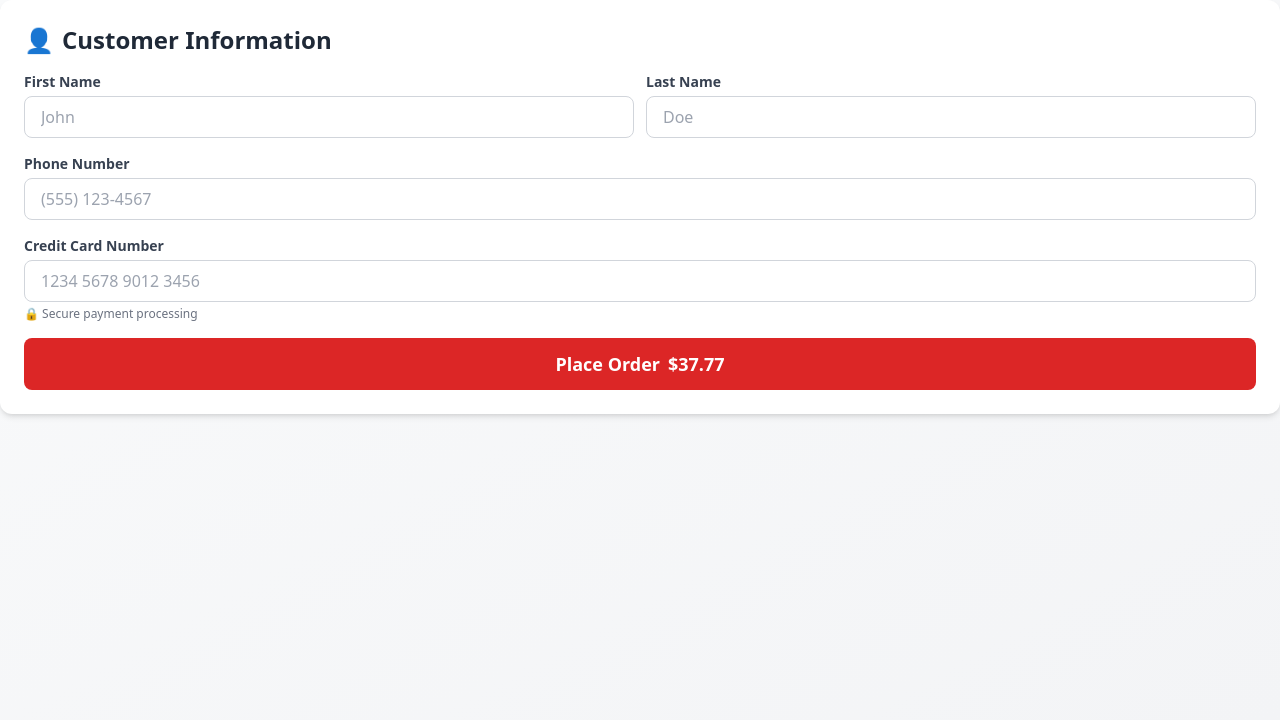
OrderForm Component › Form Validation - Failure Cases › should show error for empty first name
The width and height of the screenshot is (1280, 720).
Blur on first name field when empty to trigger validation
Click the field labelled "First Name" at (329, 117), box top-left (24, 96), bottom-right (634, 138)
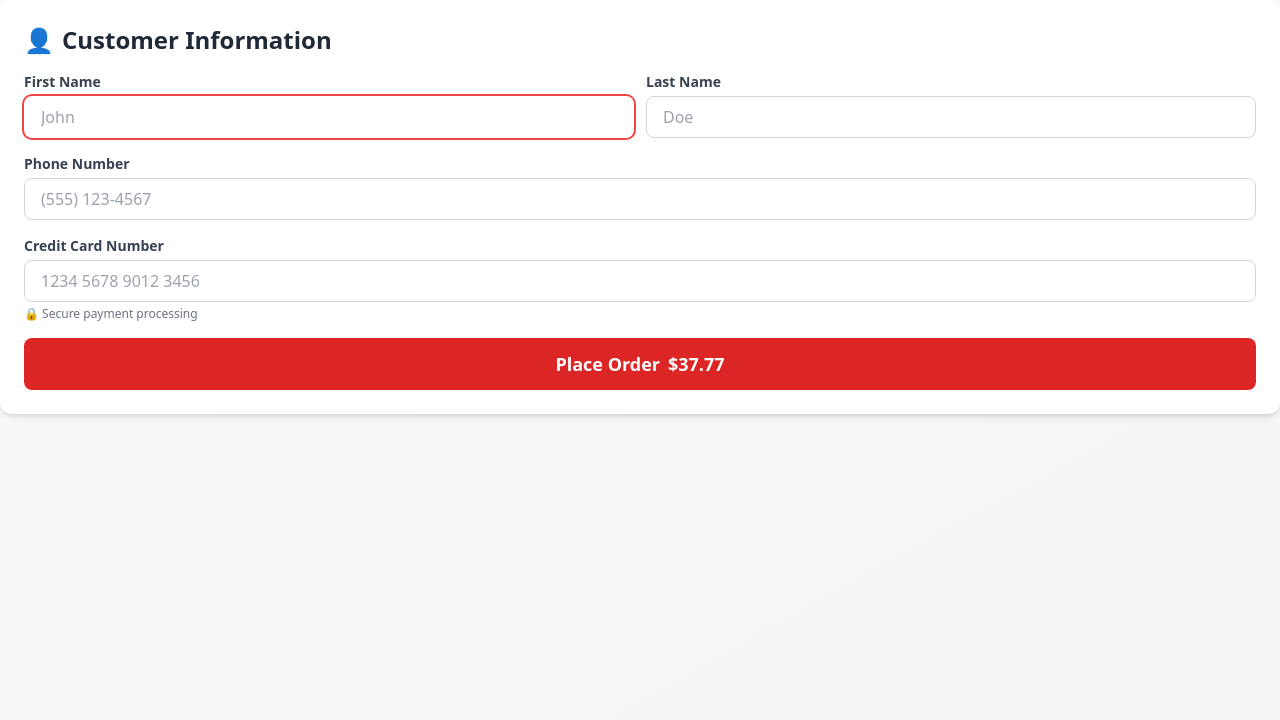
Press Tab
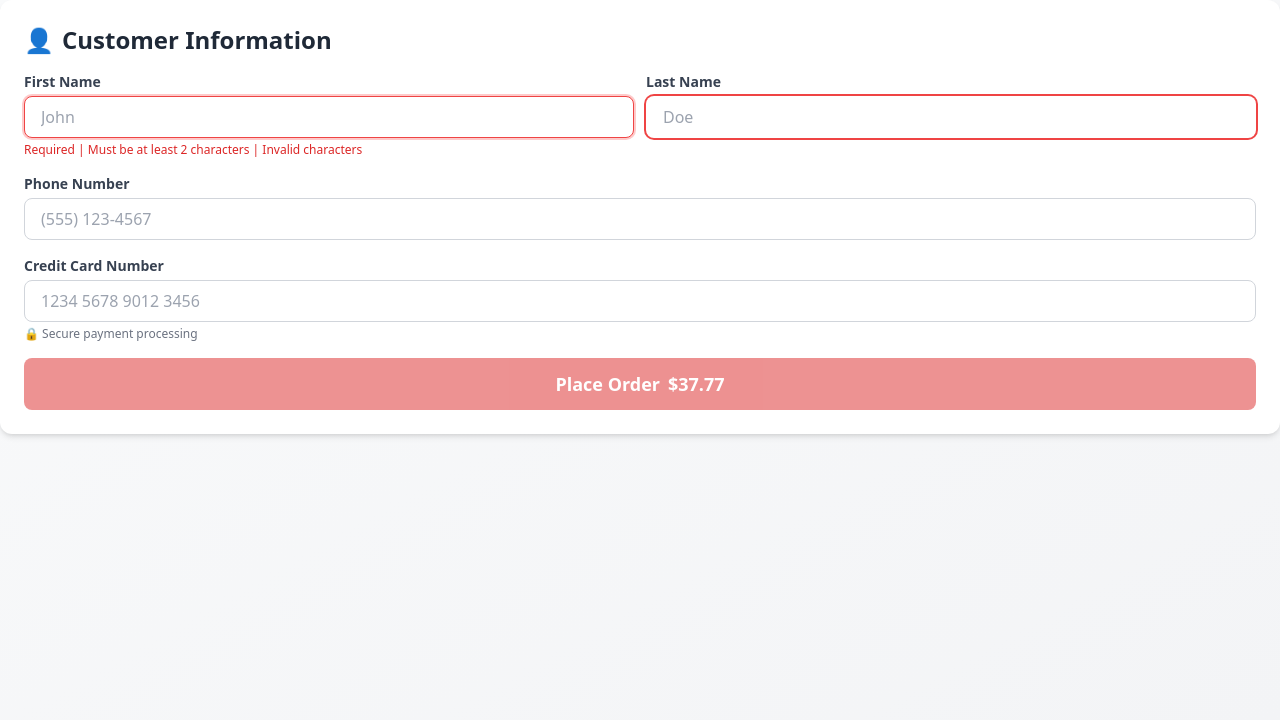
Result: the text "Required" is shown at top-left (24, 141), bottom-right (362, 158)
